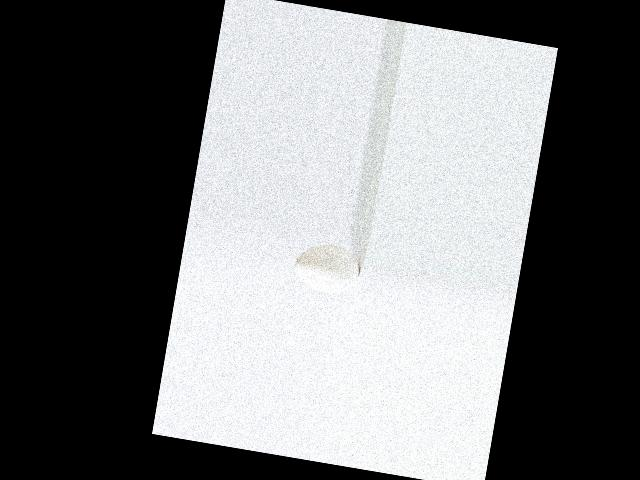egg: (290, 240, 362, 298)
